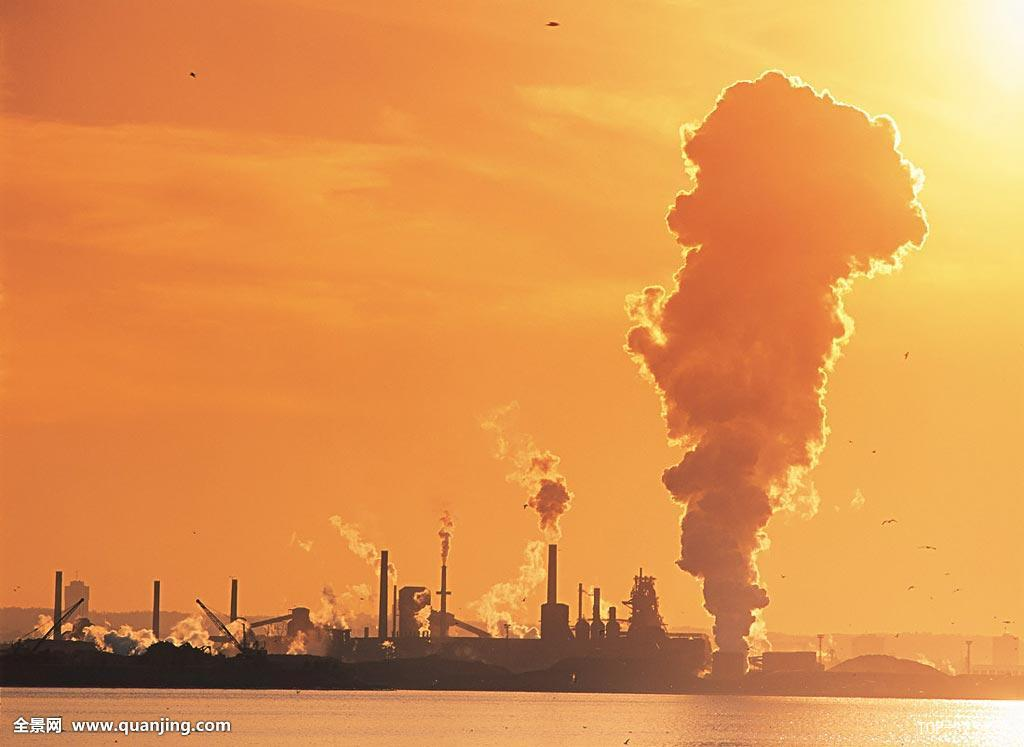dust: (666, 80, 918, 652), (506, 442, 579, 556)
